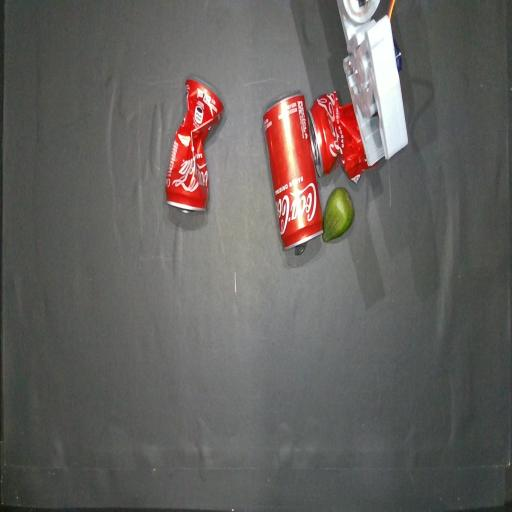higo: (322, 188, 354, 241)
lata: (263, 92, 322, 255)
lata_defectuoso: (166, 77, 224, 211), (308, 91, 371, 183)
